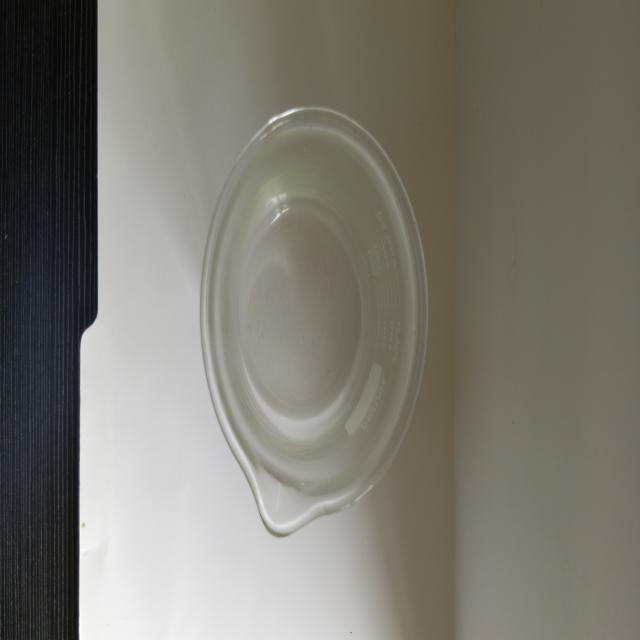beaker: (196, 96, 432, 546)
